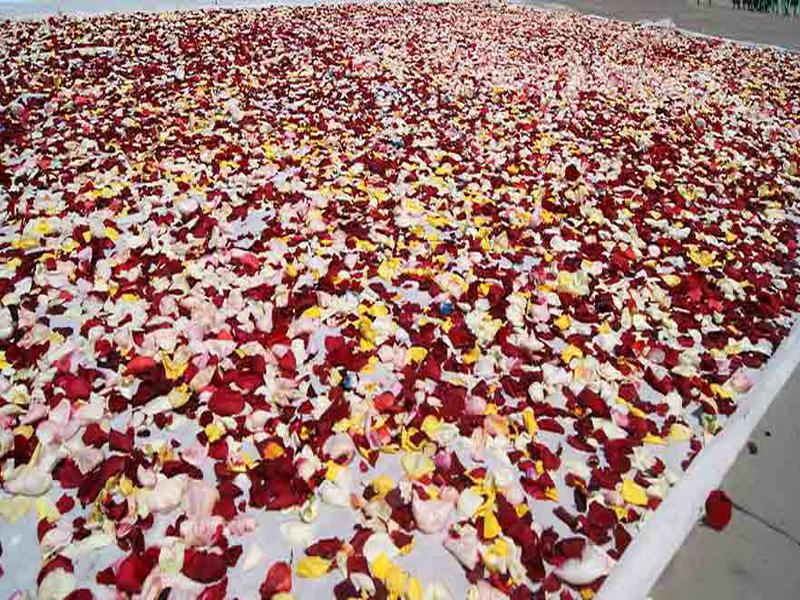flowers: (6, 10, 800, 600)
